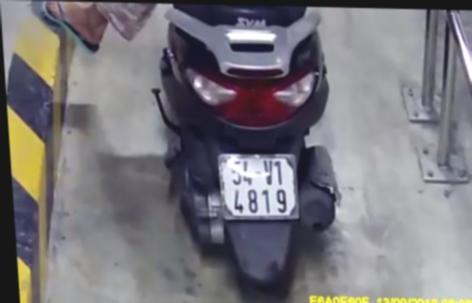License_Plate: (207, 151, 306, 222)
